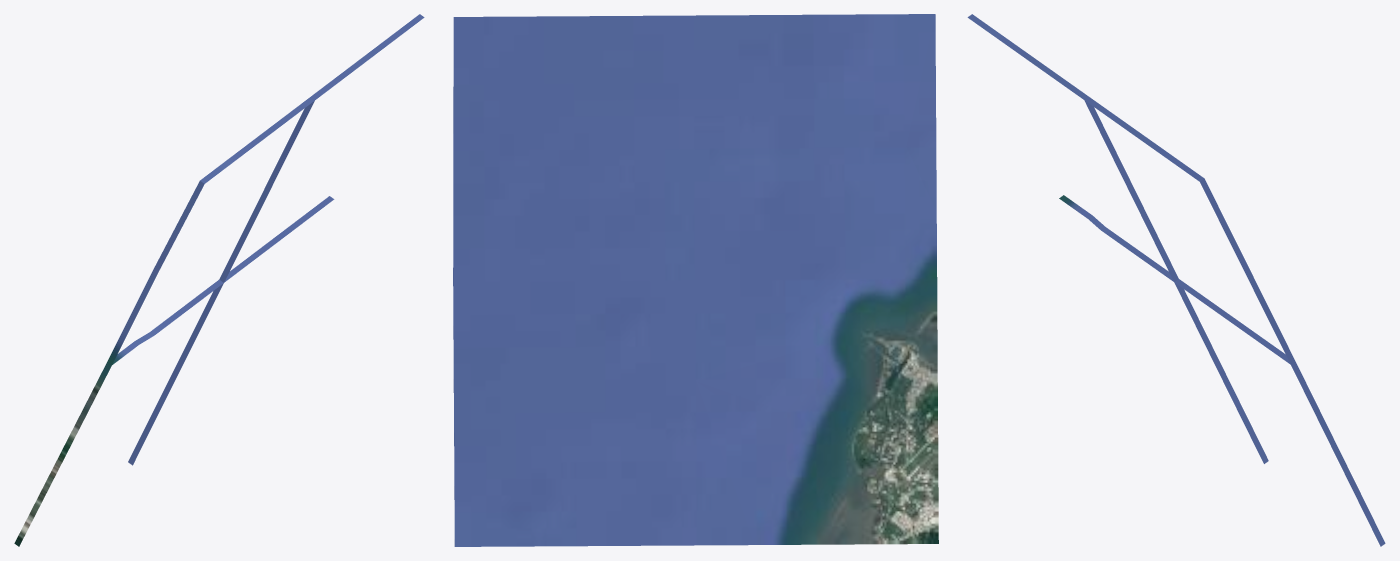
The picture shows the model from 3 angles, left to right: view 1: azimuth 30°, elevation 25°; view 2: azimuth 150°, elevation 25°; view 3: azimuth 270°, elevation 25°; orthographic projection. The views are drawn at different scales.
Size of the model in its own units: 19716 by 17886 by 16445.
1 material, 1 textured.
